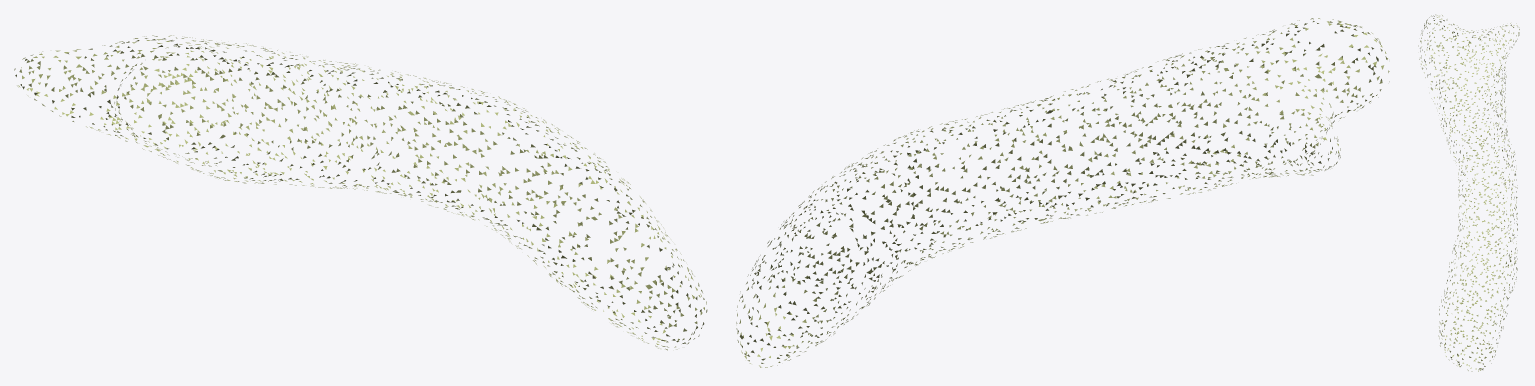
The model's file is morph_010.glb.
The picture shows the model from 3 angles, left to right: view 1: azimuth 30°, elevation 25°; view 2: azimuth 150°, elevation 25°; view 3: azimuth 270°, elevation 25°; orthographic projection. The views are drawn at different scales.
Size of the model in its own units: 109 by 73.58 by 30.68.
